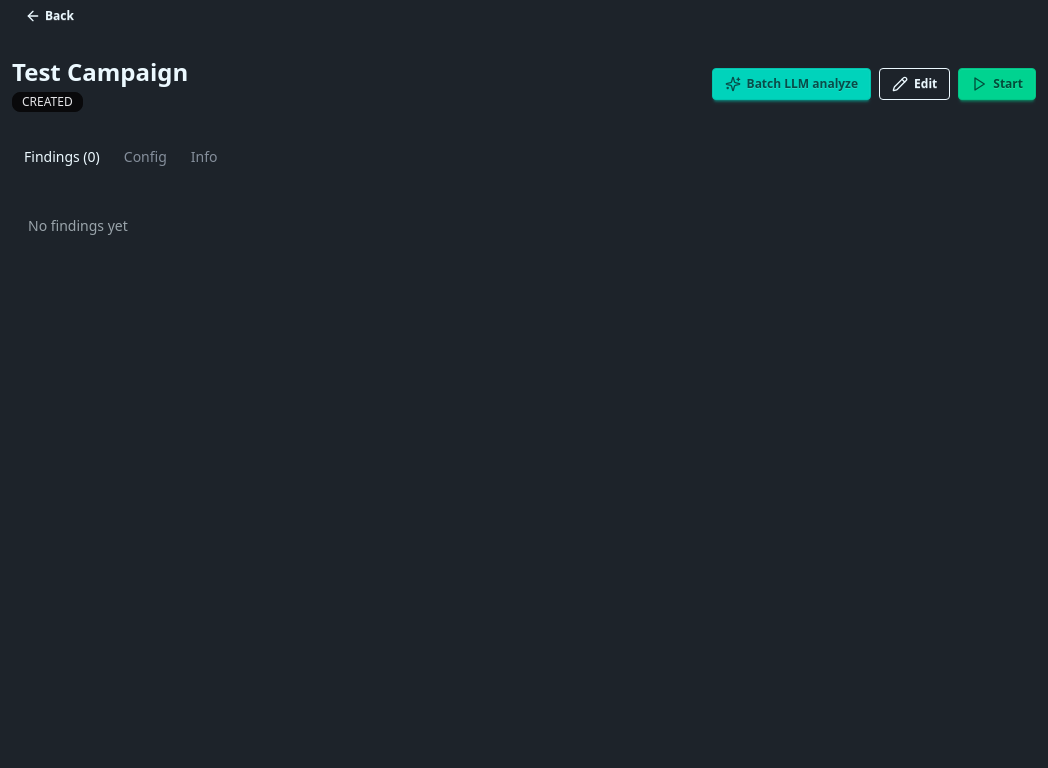
Test: CampaignDetailPage › switches to Config tab and renders JsonViewer
Click the tab "Config" at point(145, 156), box [112, 136, 179, 176]
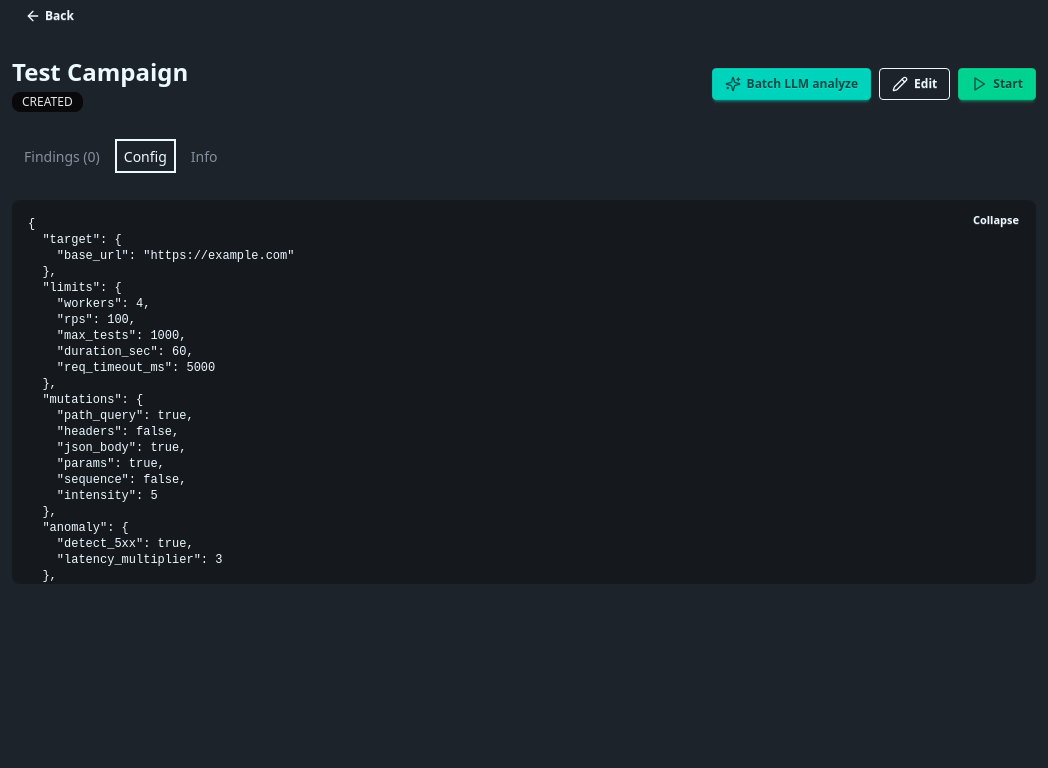
Check: the button "Collapse" is shown, box [964, 208, 1028, 232]
